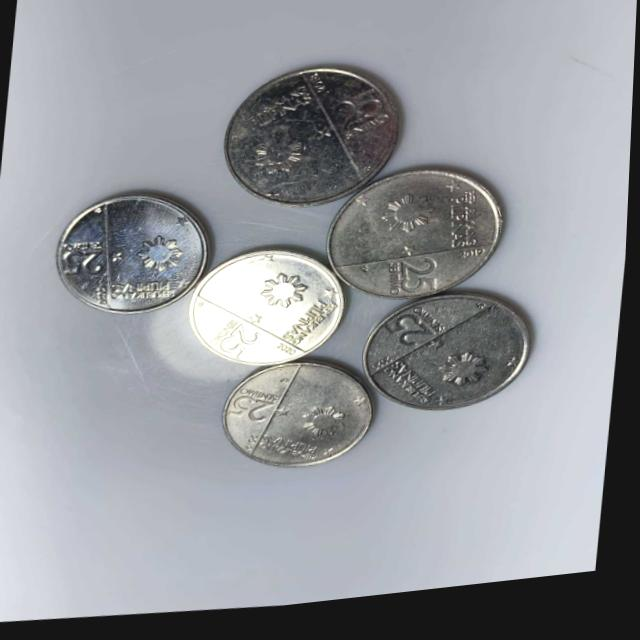25Cent_New_Front: (330, 96, 385, 143), (398, 261, 447, 307), (386, 320, 437, 359), (60, 241, 108, 282), (219, 329, 264, 368), (232, 398, 276, 432)
